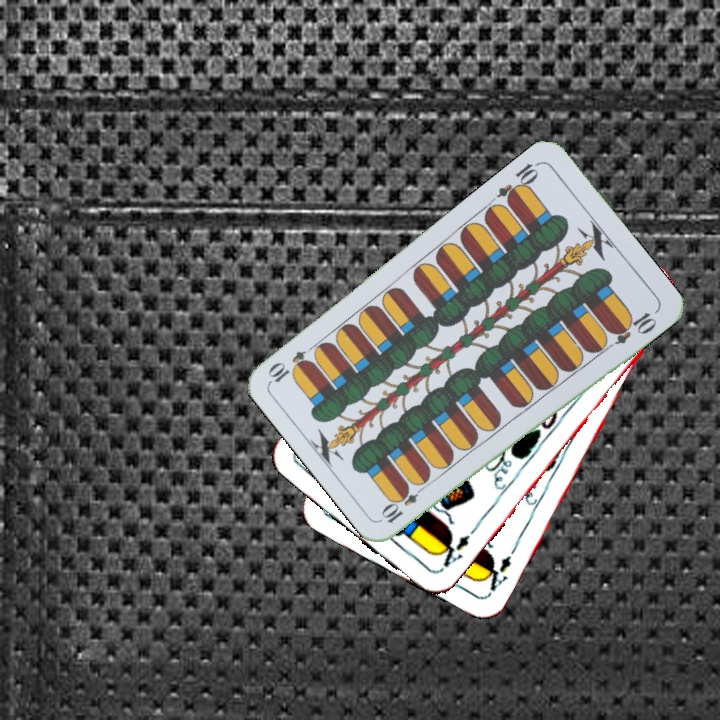E10: (493, 158, 543, 207), (378, 479, 429, 526)
EA: (432, 524, 478, 574), (478, 544, 518, 598)
